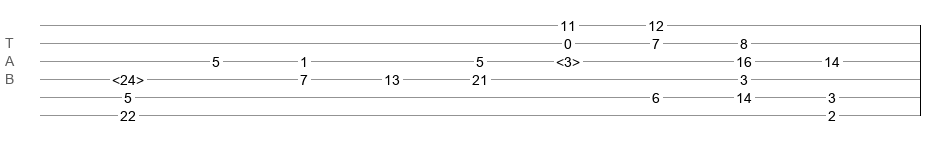0: (564, 36, 572, 46)
1: (300, 54, 308, 64)
11: (560, 18, 576, 28)
12: (648, 18, 664, 28)
13: (384, 72, 400, 82)
14: (736, 90, 752, 100), (824, 54, 840, 64)
16: (736, 54, 752, 64)
2: (828, 108, 836, 118)
21: (472, 72, 488, 82)
22: (120, 108, 136, 118)
3: (740, 72, 748, 82), (828, 90, 836, 100)
5: (124, 90, 132, 100), (212, 54, 220, 64), (476, 54, 484, 64)
6: (652, 90, 660, 100)
7: (300, 72, 308, 82), (652, 36, 660, 46)
8: (740, 36, 748, 46)
harmonic: (112, 72, 144, 82), (556, 54, 580, 64)
